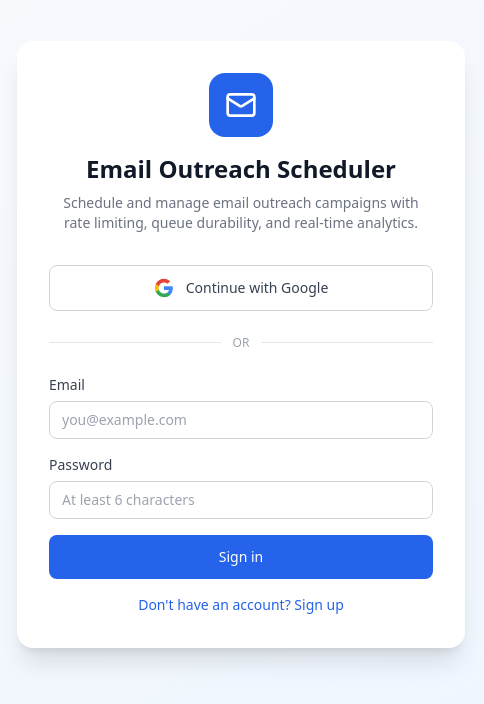
Test case: LoginPage › shows validation error when email/password are empty
The width and height of the screenshot is (484, 704).
Click the button "Sign in" at (241, 556), box x1=49 y1=534 x2=433 y2=578
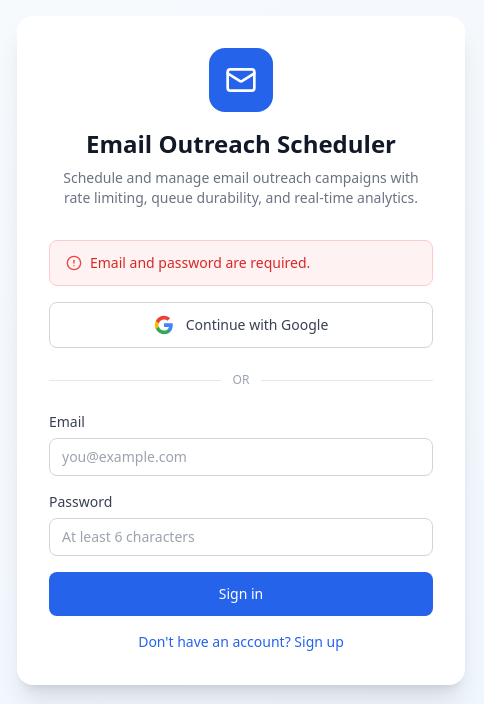
expect the text "Email and password are required." is shown: met, box x1=90 y1=253 x2=310 y2=273
